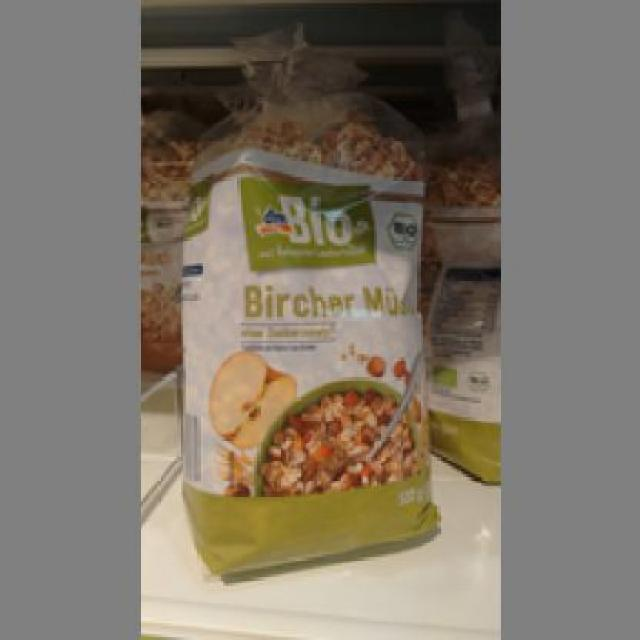Cereal: (174, 92, 457, 578)
